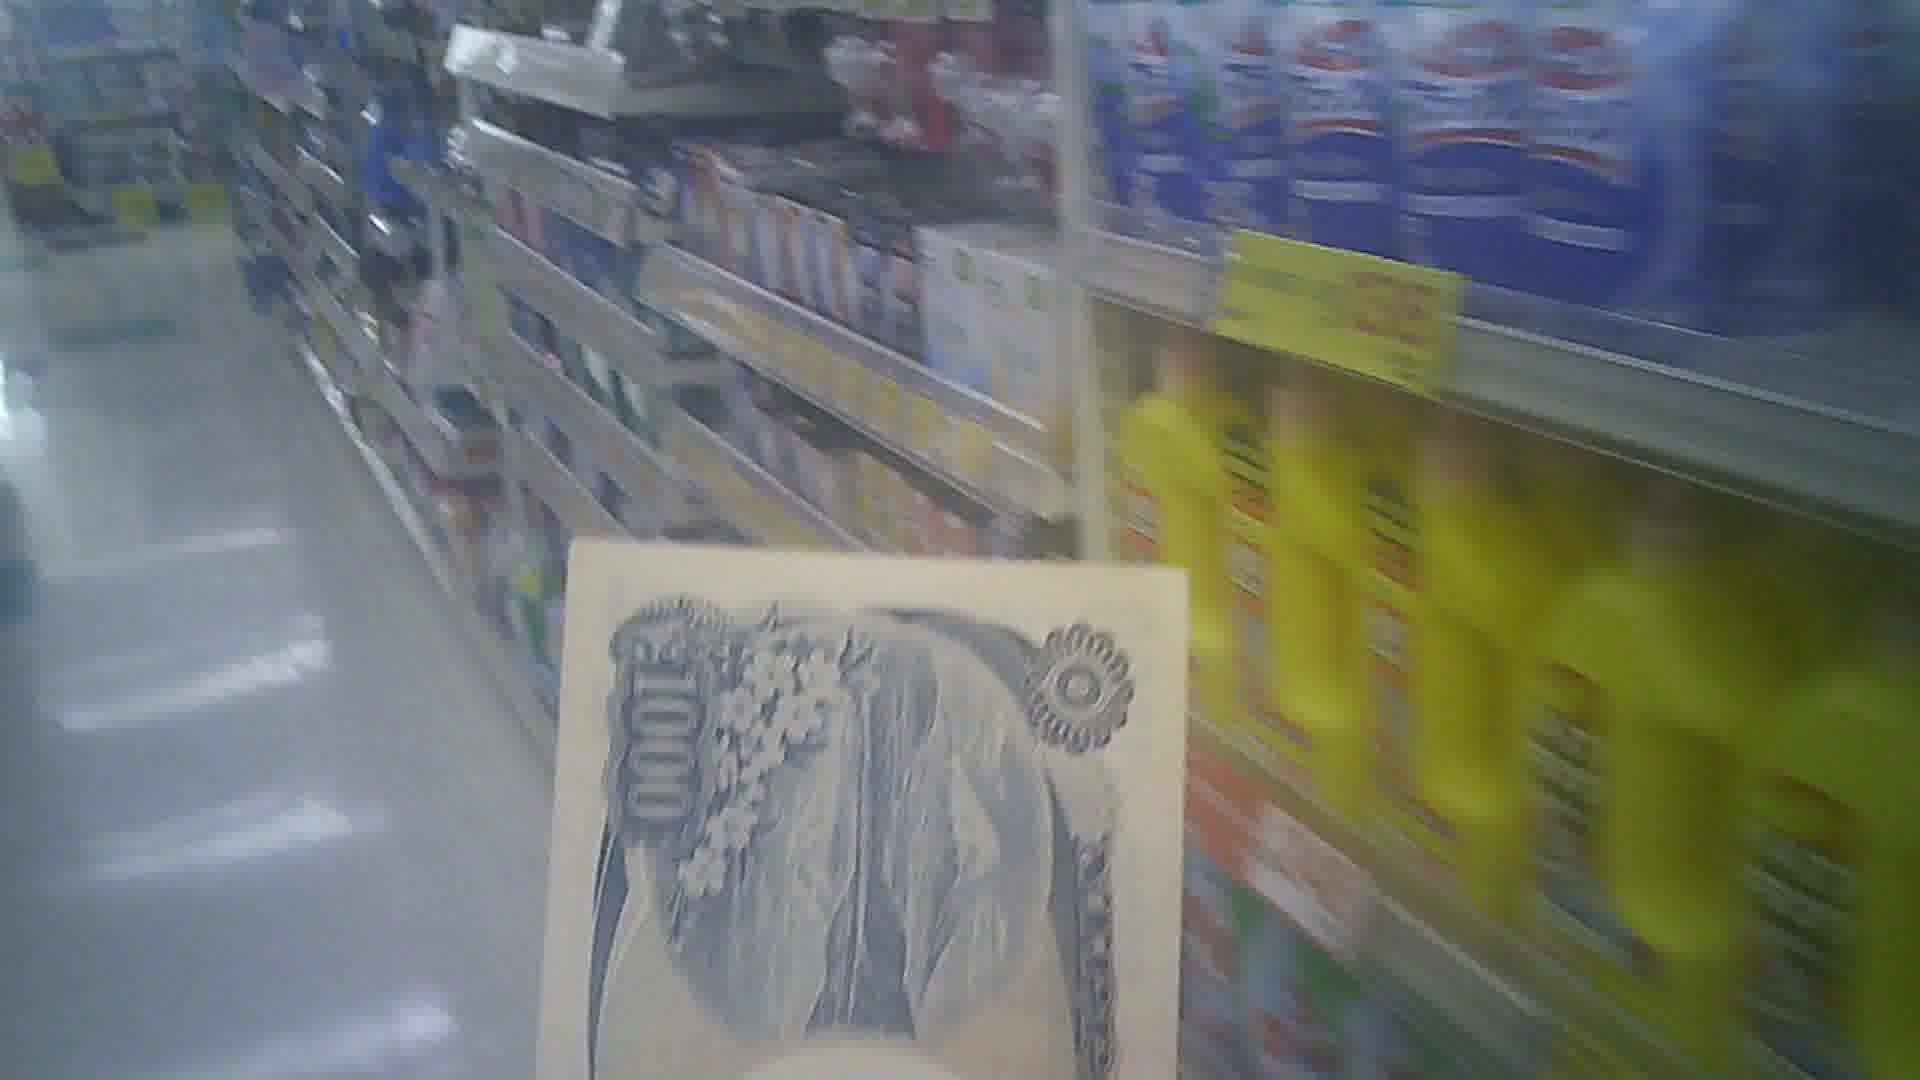1,000 Yen: (556, 531, 1162, 1076)
